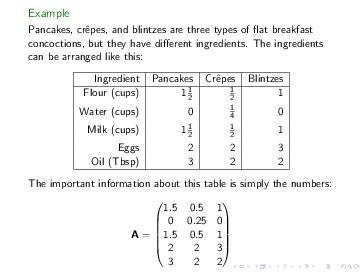paragraph: (26, 23, 349, 272)
title: (25, 3, 73, 21)
